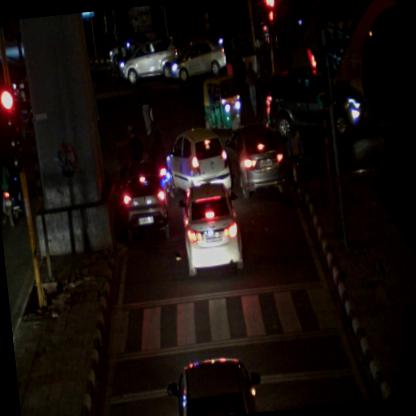car: (262, 59, 368, 146), (177, 182, 244, 282), (162, 352, 265, 415), (160, 123, 232, 204), (224, 122, 287, 200), (119, 158, 171, 242), (119, 35, 184, 85), (166, 36, 228, 82)
motorcycle: (0, 150, 22, 232), (148, 132, 174, 196)
